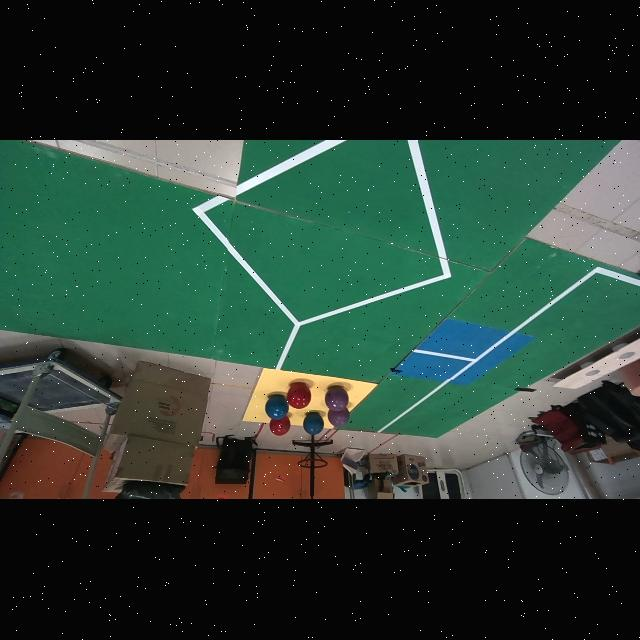B: (265, 396, 289, 421), (304, 413, 324, 436)
P: (326, 387, 348, 412), (328, 409, 350, 427)
R: (286, 384, 312, 410), (270, 417, 290, 436)
